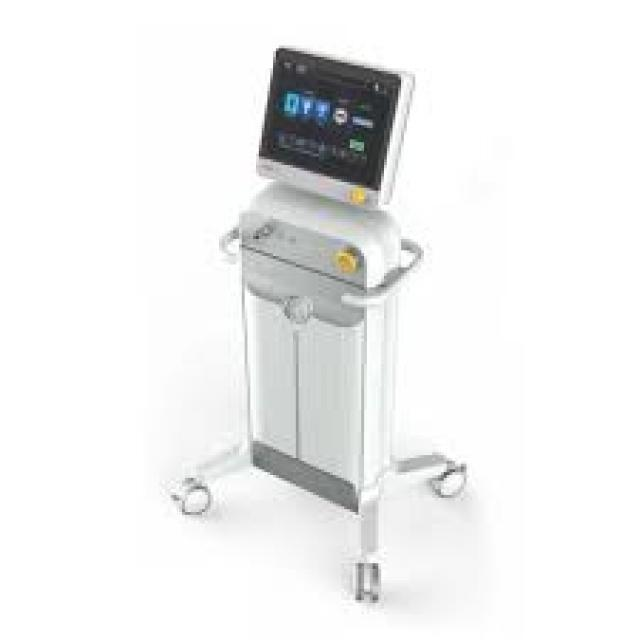ventilator: (193, 22, 458, 571)
